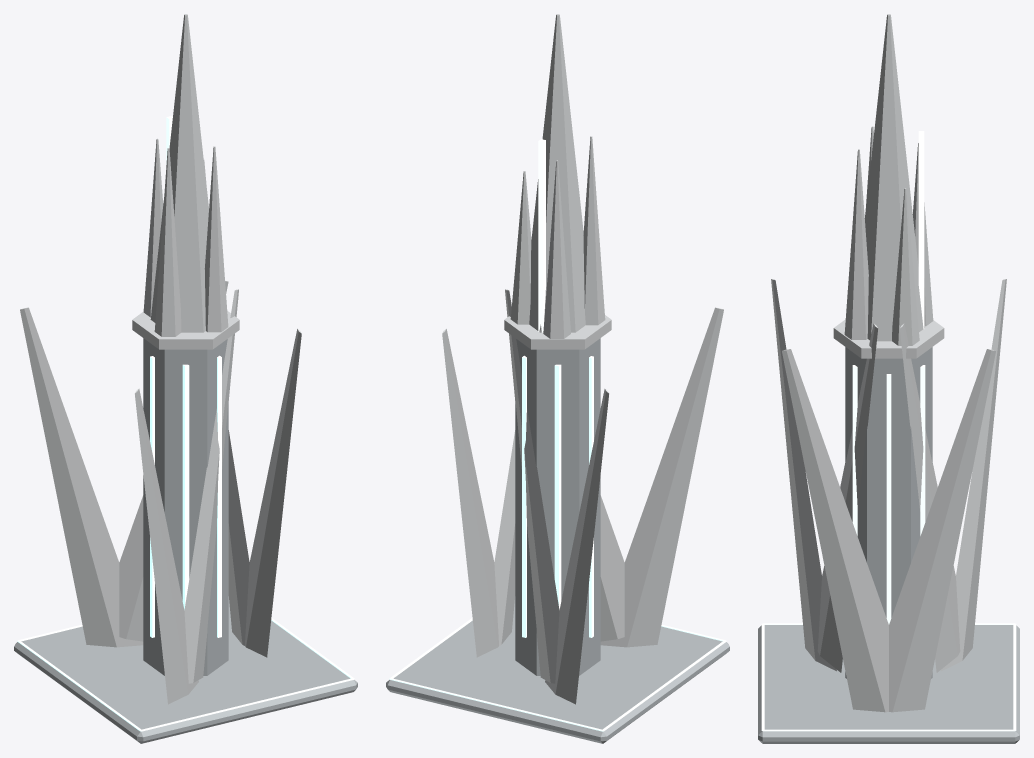
File: zone_high_5.glb
The picture shows the model from 3 angles, left to right: view 1: azimuth 30°, elevation 25°; view 2: azimuth 150°, elevation 25°; view 3: azimuth 270°, elevation 25°; orthographic projection. The views are drawn at different scales.
Parts seen in each view (by area): view 1: zone_high_5, detail; view 2: zone_high_5, detail; view 3: zone_high_5, detail.
Part boxes in pixels (x1,y1,x2,y2): zone_high_5: (14,14,357,743); detail: (17,618,354,731); zone_high_5: (386,14,729,743); detail: (389,618,726,731); zone_high_5: (758,14,1019,743); detail: (761,623,1016,731).
Bounding box in the file's own units: 27.5 × 79.94 × 27.5.
